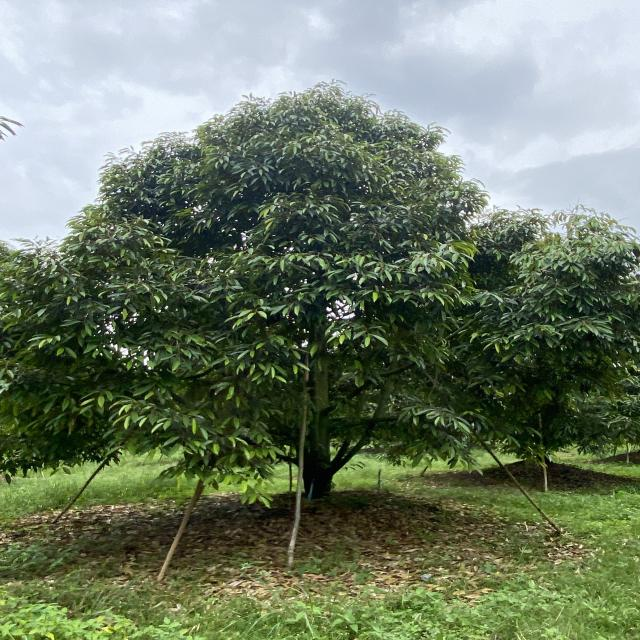Tree: (49, 81, 533, 490)
